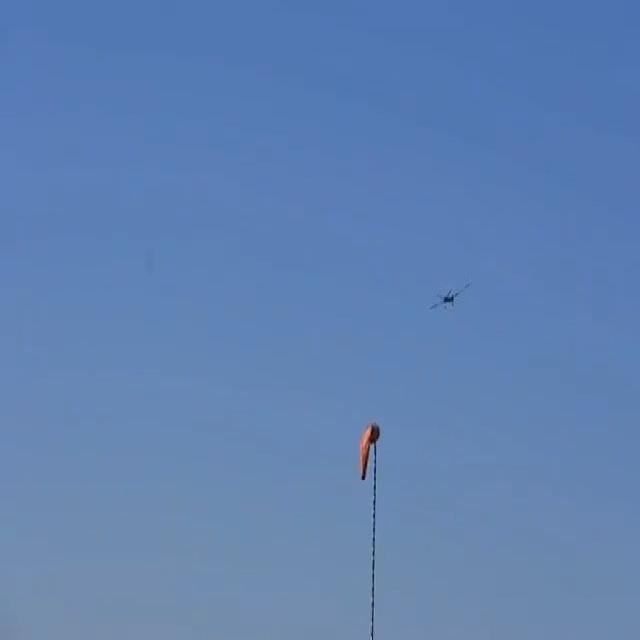iha: (429, 282, 469, 308)
